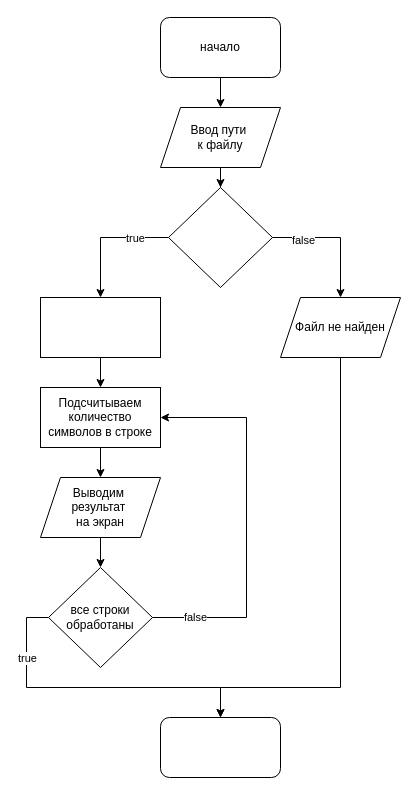
Image size: 418x795. Some labels were removed from this diagram. Each missing label, with the box of its shape:
конец: (160, 716, 280, 778)
Проверка существования файла: (168, 186, 272, 288)
чтение строк файла: (40, 296, 160, 358)
